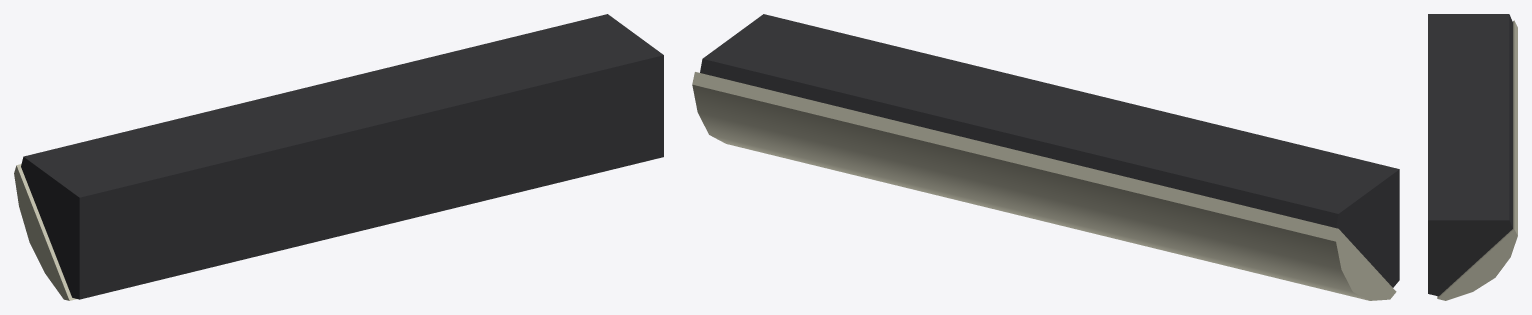
Rendered from m_hall_triangleLights_lod1.fbx.
The picture shows the model from 3 angles, left to right: view 1: azimuth 30°, elevation 25°; view 2: azimuth 150°, elevation 25°; view 3: azimuth 270°, elevation 25°; orthographic projection. The views are drawn at different scales.
Visible parts, largest first — view 1: polySurface1; view 2: polySurface1; view 3: polySurface1.
Boxes of the visible parts, <box> form: polySurface1: <box>14,14,663,300</box>; polySurface1: <box>692,14,1399,300</box>; polySurface1: <box>1428,14,1517,300</box>.
Bounding box in the file's own units: 24.29 × 4.32 × 4.42.
